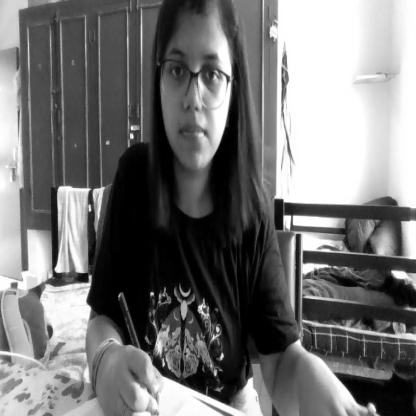Normal: (154, 0, 236, 180)
